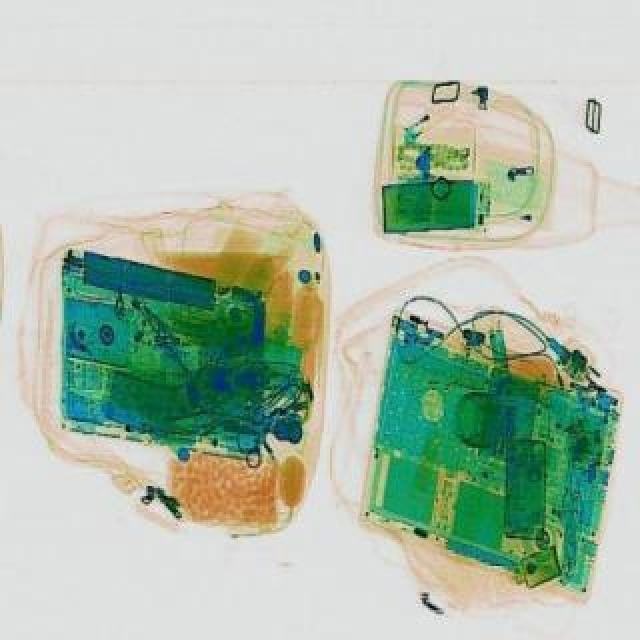pliers: (230, 402, 298, 466)
